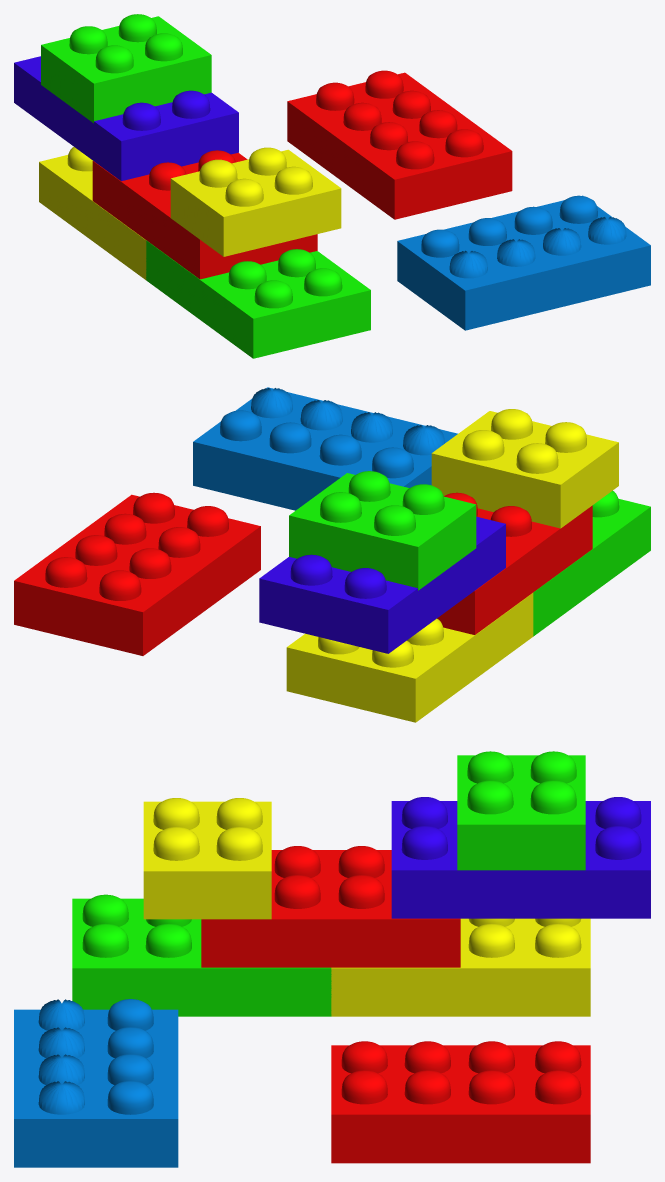
3 renders of one model, top to bottom at view 1: azimuth 30°, elevation 25°; view 2: azimuth 150°, elevation 25°; view 3: azimuth 270°, elevation 25°, orthographic. The views are drawn at different scales.
Parts seen in each view (by area): view 1: Boîte026, Boîte028, Boîte020, Boîte023, Boîte024, Boîte025, Boîte022, Boîte021, Sphère042, Sphère043, Sphère099, Sphère092 (+27 smaller); view 2: Boîte028, Boîte021, Boîte023, Boîte026, Boîte025, Boîte024, Boîte022, Boîte020, Sphère091, Sphère093, Sphère070, Sphère105 (+26 smaller); view 3: Boîte028, Boîte026, Boîte023, Boîte022, Boîte021, Boîte020, Boîte024, Boîte025, Sphère102, Sphère103, Sphère082, Sphère085 (+33 smaller).
Part boxes in pixels (<box>): Boîte026: <box>397,195,650,330</box>; Boîte028: <box>287,72,512,219</box>; Boîte020: <box>146,240,370,358</box>; Boîte023: <box>14,56,238,181</box>; Boîte024: <box>170,149,341,256</box>; Boîte025: <box>41,16,211,123</box>; Boîte022: <box>92,152,317,279</box>; Boîte021: <box>39,155,146,279</box>; Sphère042: <box>254,280,292,308</box>; Sphère043: <box>304,268,342,296</box>; Sphère099: <box>396,141,434,169</box>; Sphère092: <box>421,229,459,257</box>; Boîte028: <box>14,494,260,655</box>; Boîte021: <box>286,593,533,722</box>; Boîte023: <box>259,516,505,653</box>; Boîte026: <box>193,387,457,510</box>; Boîte025: <box>289,473,476,590</box>; Boîte024: <box>431,411,618,528</box>; Boîte022: <box>437,505,592,634</box>; Boîte020: <box>533,498,650,636</box>; Sphère091: <box>269,422,311,453</box>; Sphère093: <box>319,434,361,465</box>; Sphère070: <box>290,554,332,585</box>; Sphère105: <box>99,570,141,600</box>; Boîte028: <box>331,1045,590,1163</box>; Boîte026: <box>14,1009,178,1167</box>; Boîte023: <box>391,801,650,918</box>; Boîte022: <box>201,850,460,967</box>; Boîte021: <box>331,918,590,1016</box>; Boîte020: <box>72,898,331,1016</box>; Boîte024: <box>143,801,271,919</box>; Boîte025: <box>457,755,585,870</box>; Sphère102: <box>535,1070,581,1104</box>; Sphère103: <box>468,1070,514,1104</box>; Sphère082: <box>467,780,513,814</box>; Sphère085: <box>530,780,576,814</box>.
Bounding box in the file's own units: 54.48 × 24.36 × 66.52.
